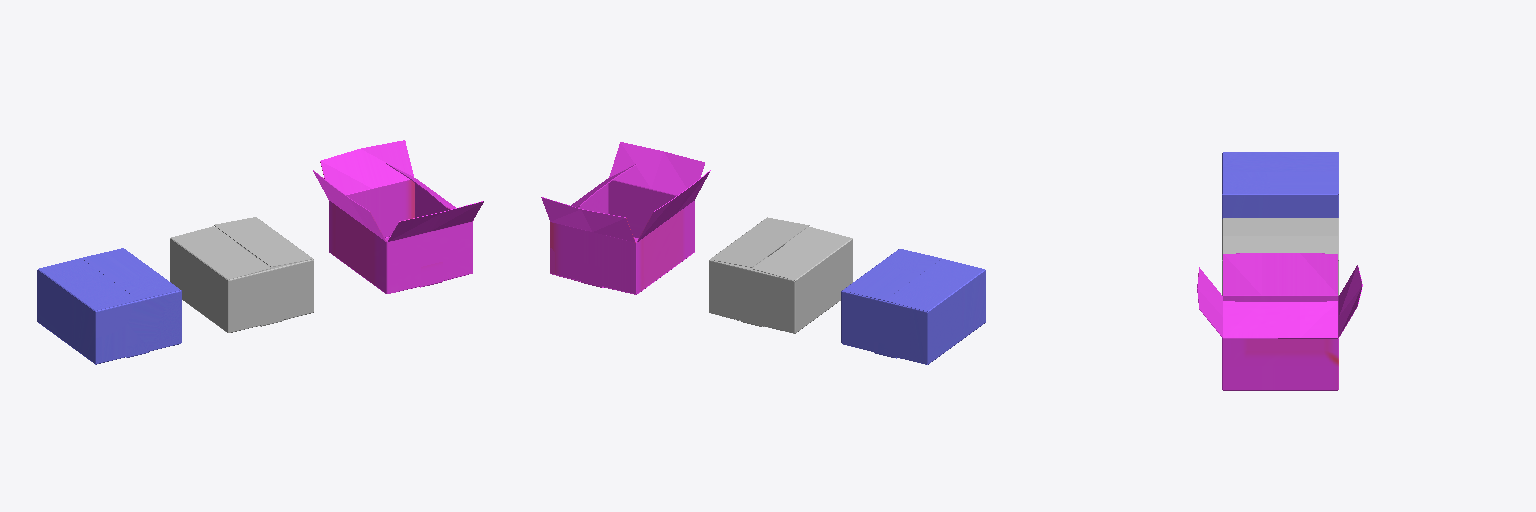
3 views of the same model, side by side, from view 1: azimuth 30°, elevation 25°; view 2: azimuth 150°, elevation 25°; view 3: azimuth 270°, elevation 25° (orthographic).
Parts seen in each view (by area): view 1: Object_13, Object_15, Object_14; view 2: Object_13, Object_15, Object_14; view 3: Object_13, Object_15, Object_14.
Part boxes in pixels (x1,y1,x2,y2): Object_13: (313, 140, 483, 293); Object_15: (37, 248, 181, 364); Object_14: (170, 217, 313, 332); Object_13: (541, 142, 710, 294); Object_15: (841, 249, 985, 364); Object_14: (709, 217, 852, 333); Object_13: (1197, 253, 1362, 390); Object_15: (1222, 152, 1338, 218); Object_14: (1222, 218, 1338, 295).
Bounding box in the file's own units: 0.8936 × 0.1989 × 0.3388.
Materials: 3 (2 with a texture image).